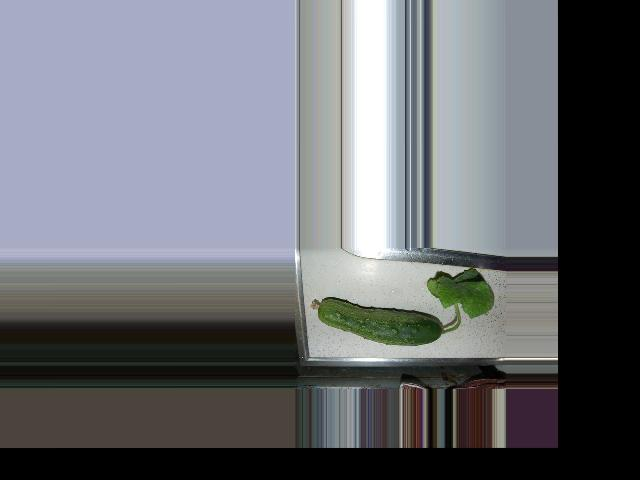cucumber: (310, 297, 444, 345)
